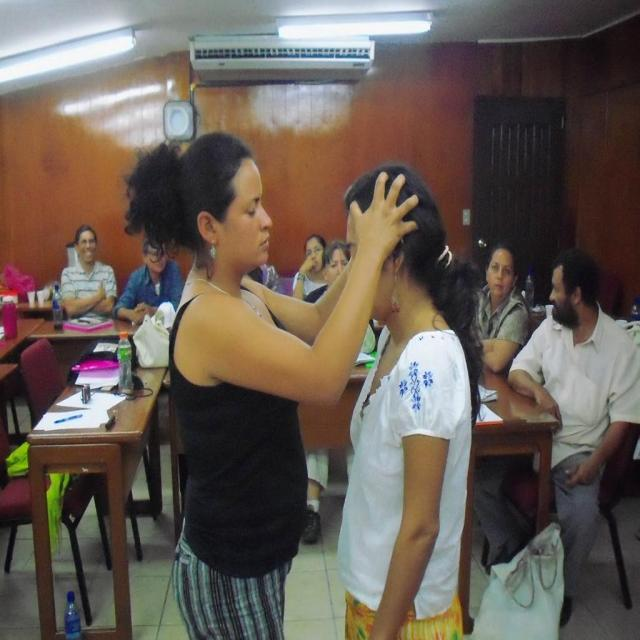nomask: (216, 163, 272, 265), (346, 213, 392, 325), (550, 267, 574, 323), (487, 253, 512, 295), (328, 249, 348, 289), (306, 238, 322, 272), (146, 242, 164, 271), (78, 232, 94, 261)
